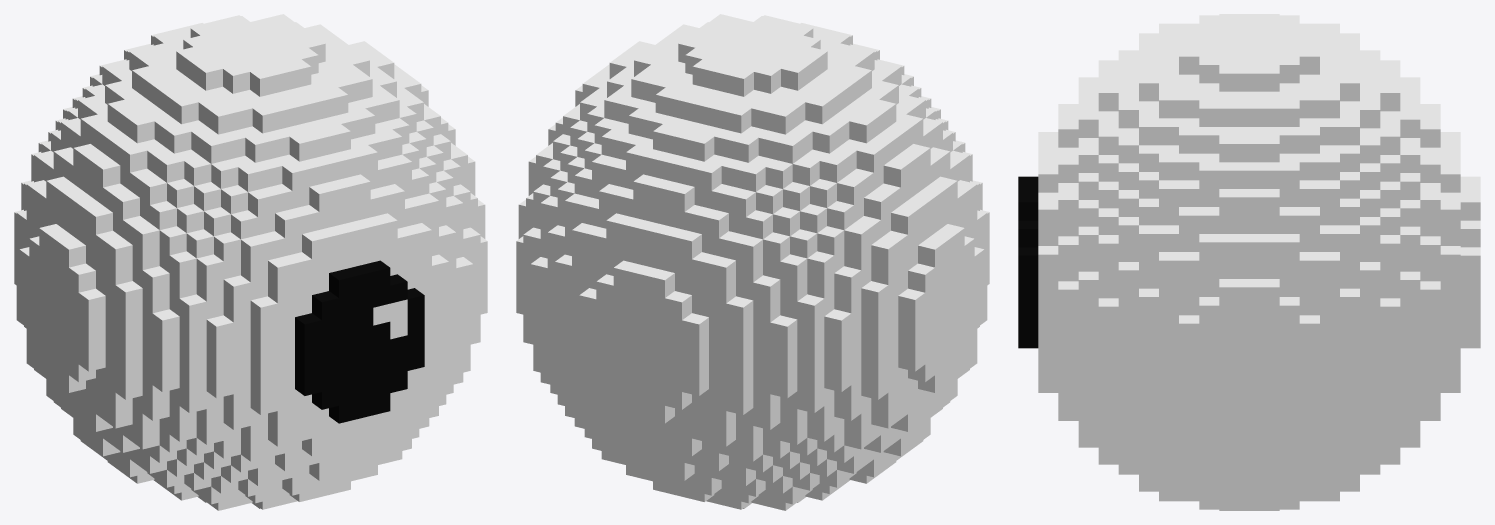
The model's file is eyeBoss.obj.
The picture shows the model from 3 angles, left to right: view 1: azimuth 30°, elevation 25°; view 2: azimuth 150°, elevation 25°; view 3: azimuth 270°, elevation 25°; orthographic projection.
Visible parts, largest first — view 1: eyeBoss; view 2: eyeBoss; view 3: eyeBoss.
Boxes of the visible parts, box(x1,y1,x2,y2) form: eyeBoss: box(14, 14, 487, 510); eyeBoss: box(516, 14, 989, 510); eyeBoss: box(1018, 14, 1480, 510).
Bounding box in the file's own units: 23 × 24 × 23.
1 material, 1 textured.
